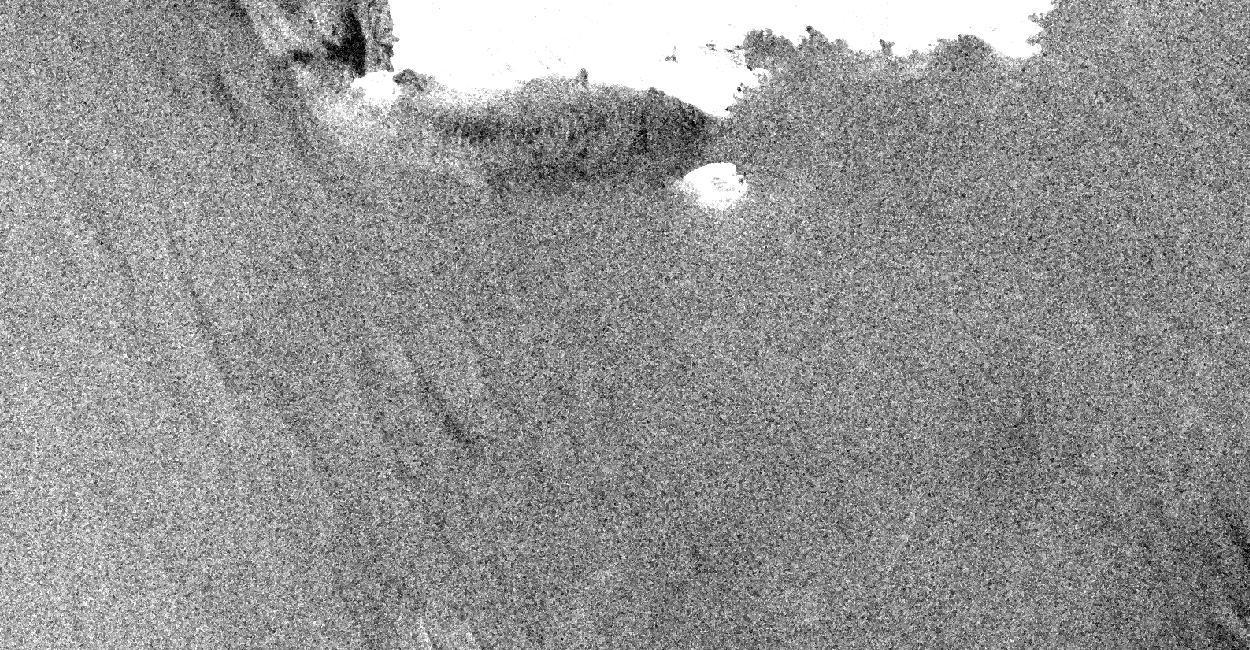Look-alike: (292, 0, 1240, 534)
